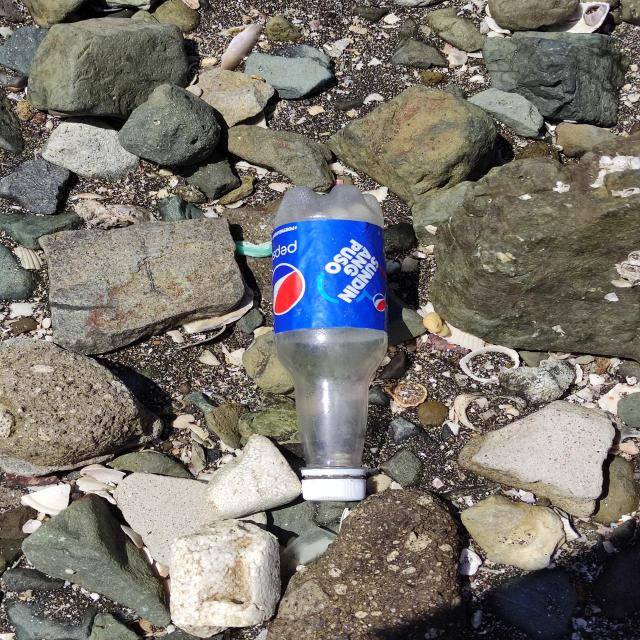plastic_waste: (270, 184, 390, 504)
